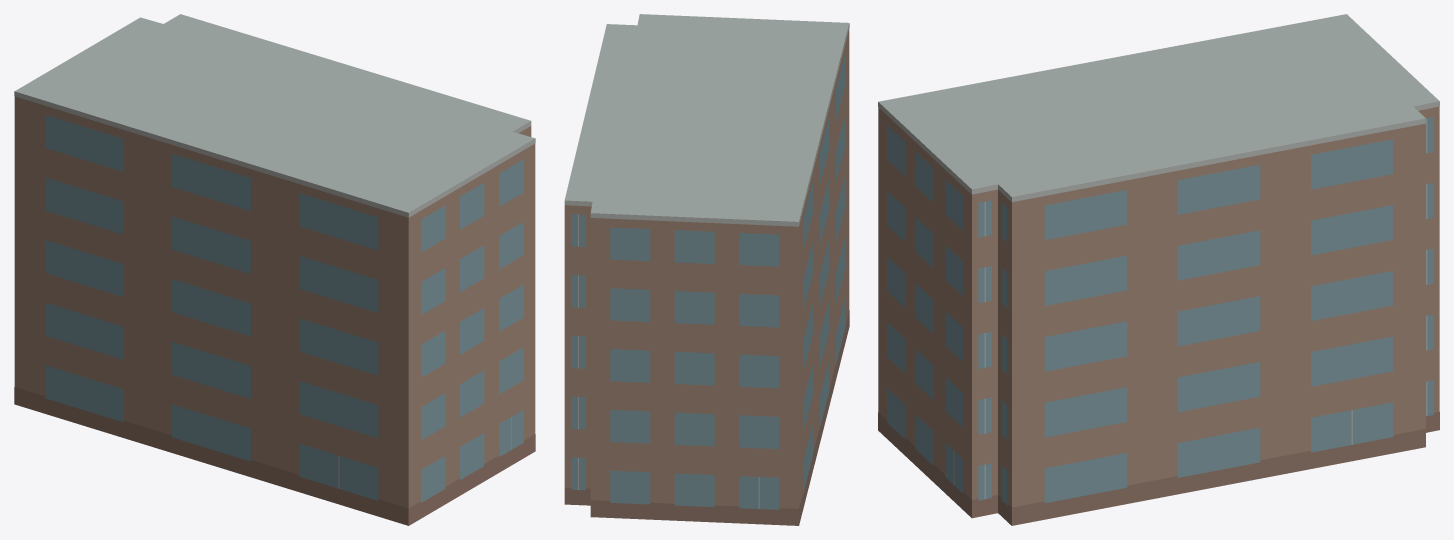
File: survey-upis-32926862.glb
3 views of the same model, side by side, from view 1: azimuth 30°, elevation 25°; view 2: azimuth 150°, elevation 25°; view 3: azimuth 270°, elevation 25° (orthographic). The views are drawn at different scales.
Visible parts, largest first — view 1: survey-upis-32926862.tmp; view 2: survey-upis-32926862.tmp; view 3: survey-upis-32926862.tmp.
Boxes of the visible parts, x1=… form: survey-upis-32926862.tmp: x1=14, y1=14, x2=535, y2=525; survey-upis-32926862.tmp: x1=564, y1=14, x2=849, y2=525; survey-upis-32926862.tmp: x1=878, y1=14, x2=1439, y2=525.
Bounding box in the file's own units: 18.65 × 15.6 × 24.16.
